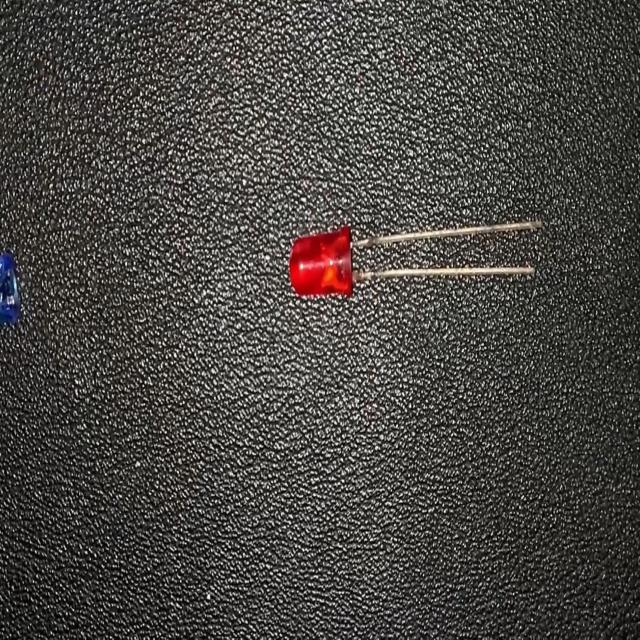LED: (287, 218, 544, 297)
